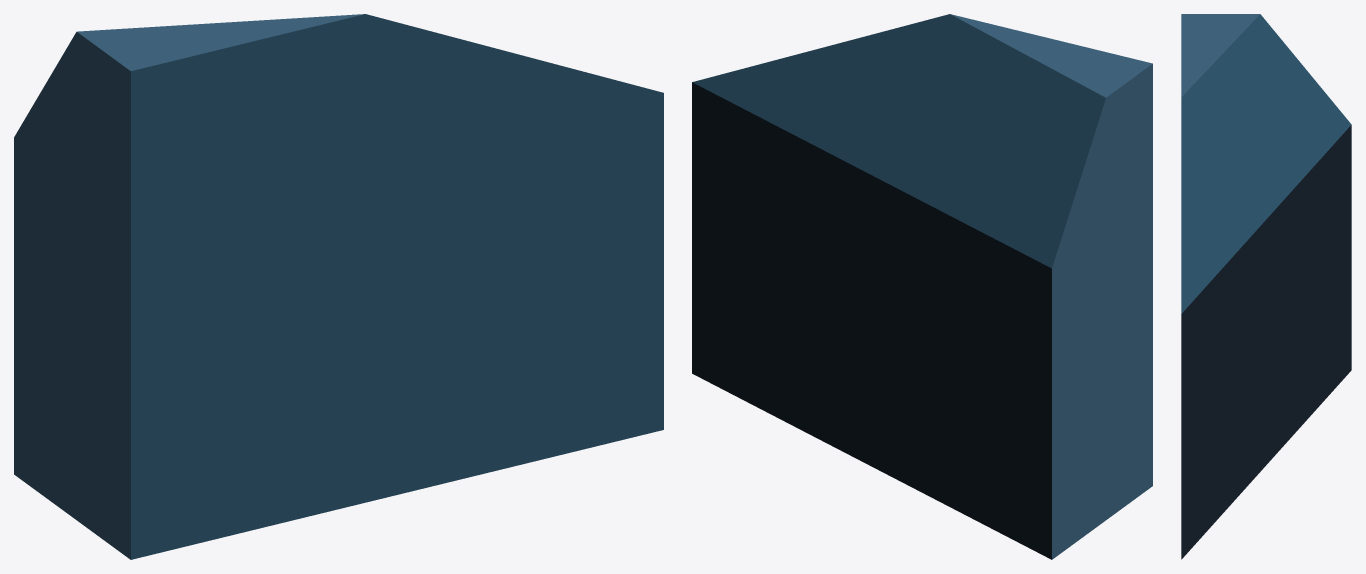
File: newsho-15.glb
3 views of the same model, side by side, from view 1: azimuth 30°, elevation 25°; view 2: azimuth 150°, elevation 25°; view 3: azimuth 270°, elevation 25° (orthographic). The views are drawn at different scales.
Visible parts, largest first — view 1: newsho-15; view 2: newsho-15; view 3: newsho-15.
Part boxes in pixels (x1,y1,x2,y2): newsho-15: (14, 14, 663, 559); newsho-15: (692, 14, 1152, 559); newsho-15: (1181, 14, 1351, 559).
Size of the model in its own units: 0.6622 by 0.58 by 0.2513.
